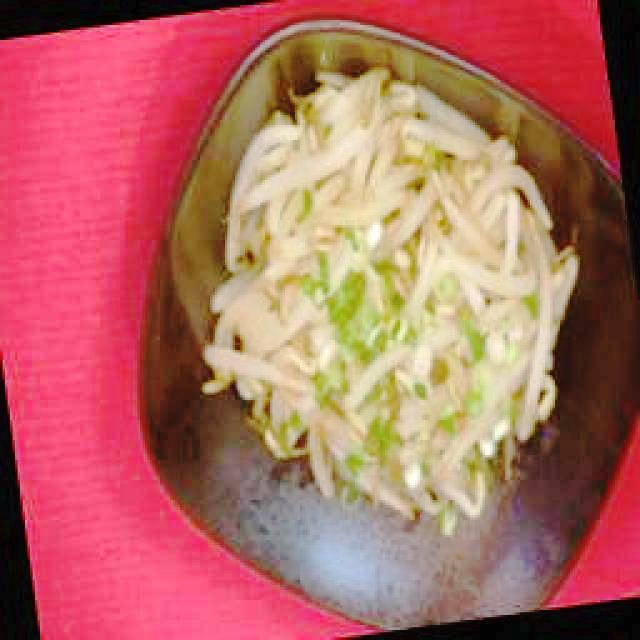mung_bean_sprouts: (203, 80, 580, 529)
